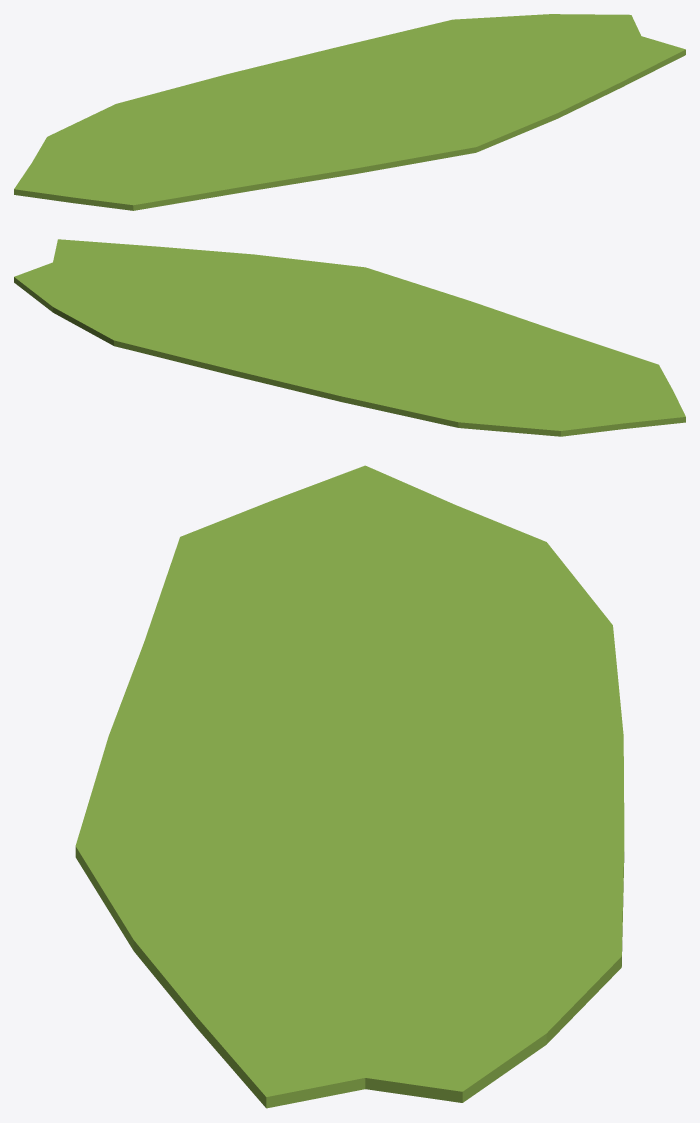
The picture shows the model from 3 angles, top to bottom: view 1: azimuth 30°, elevation 25°; view 2: azimuth 150°, elevation 25°; view 3: azimuth 270°, elevation 25°; orthographic projection. The views are drawn at different scales.
Visible parts, largest first — view 1: 独立林缘草纸.001; view 2: 独立林缘草纸.001; view 3: 独立林缘草纸.001.
Part boxes in pixels (box(x1,y1,x2,y2)): 独立林缘草纸.001: box(14, 14, 685, 210); 独立林缘草纸.001: box(14, 239, 685, 436); 独立林缘草纸.001: box(75, 465, 624, 1108).
Bounding box in the file's own units: 3 × 0.025 × 1.1.
